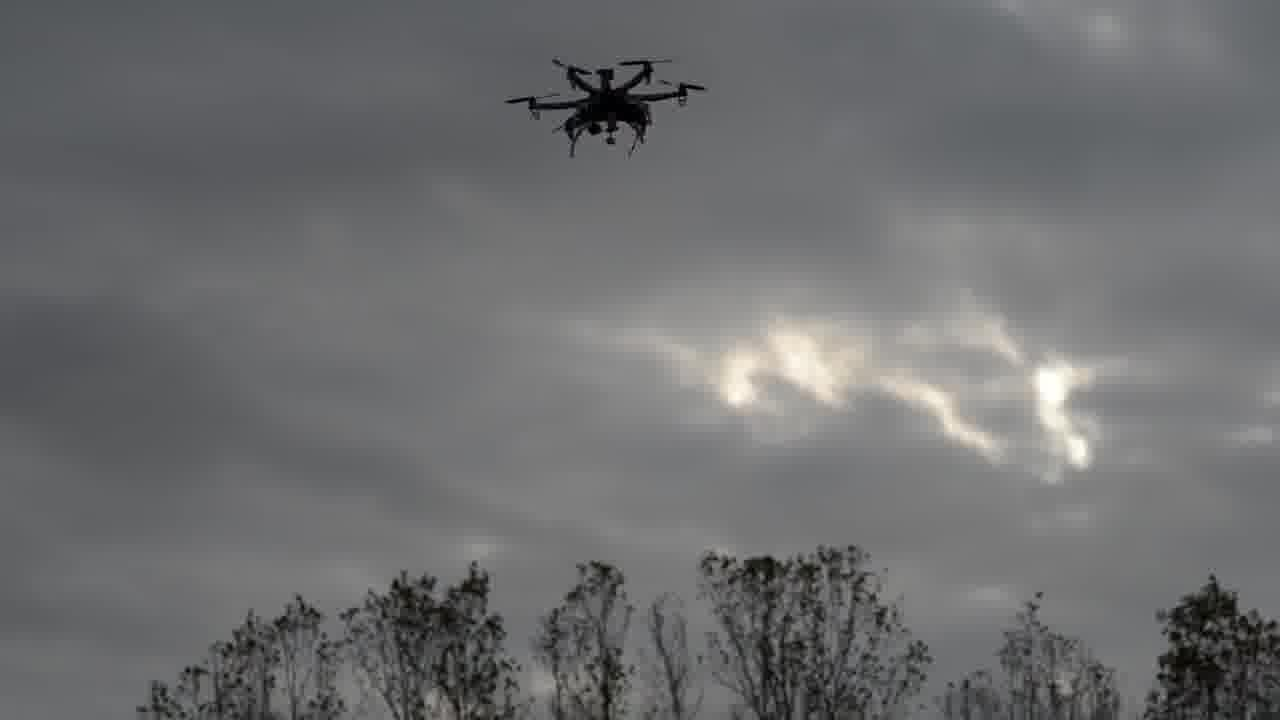drone: (497, 47, 707, 173)
